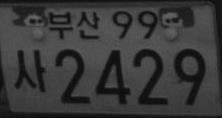2: (54, 48, 92, 105), (132, 47, 169, 105)
4: (95, 49, 131, 105)
9: (173, 47, 206, 105), (137, 9, 159, 38), (112, 9, 133, 39)
부산_H: (47, 10, 101, 40)
사: (12, 49, 47, 93)
